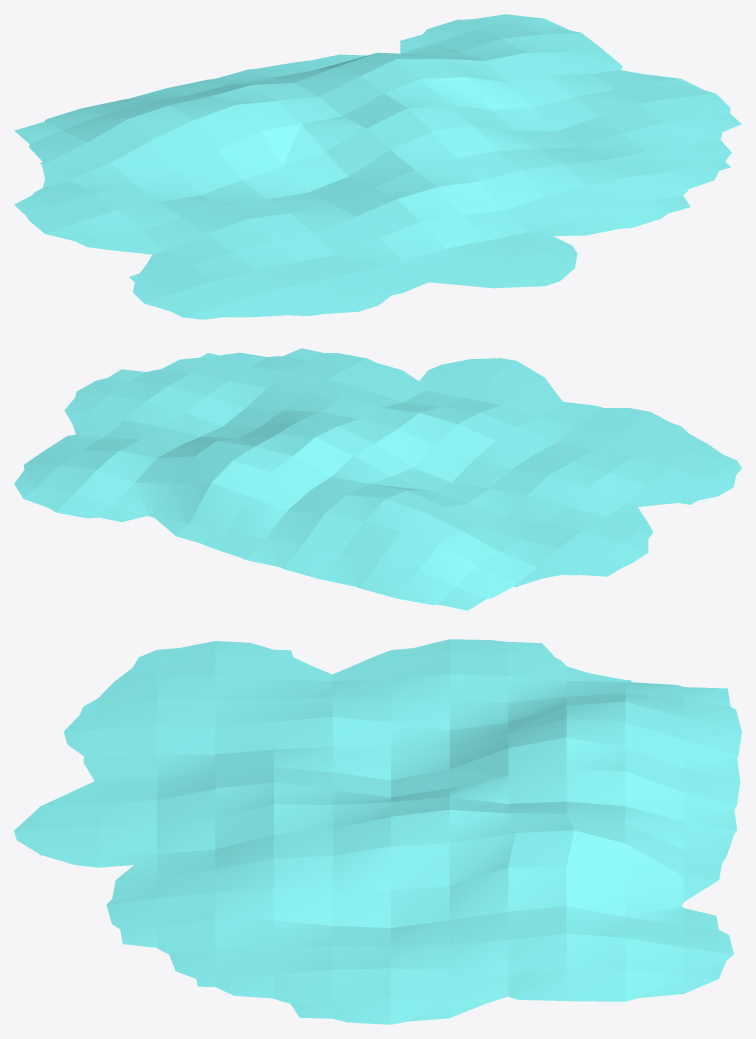
The model's file is water.fbx.
3 views of the same model, one above another, from view 1: azimuth 30°, elevation 25°; view 2: azimuth 150°, elevation 25°; view 3: azimuth 270°, elevation 25° (orthographic). The views are drawn at different scales.
Visible parts, largest first — view 1: mesh_id7; view 2: mesh_id7; view 3: mesh_id7.
Boxes of the visible parts, left/top/right/bottom form: mesh_id7: left=14, top=14, right=741, bottom=319; mesh_id7: left=14, top=348, right=741, bottom=610; mesh_id7: left=14, top=639, right=741, bottom=1024.
Bounding box in the file's own units: 1024 × 59.85 × 817.
Materials: 1 (1 with a texture image).
